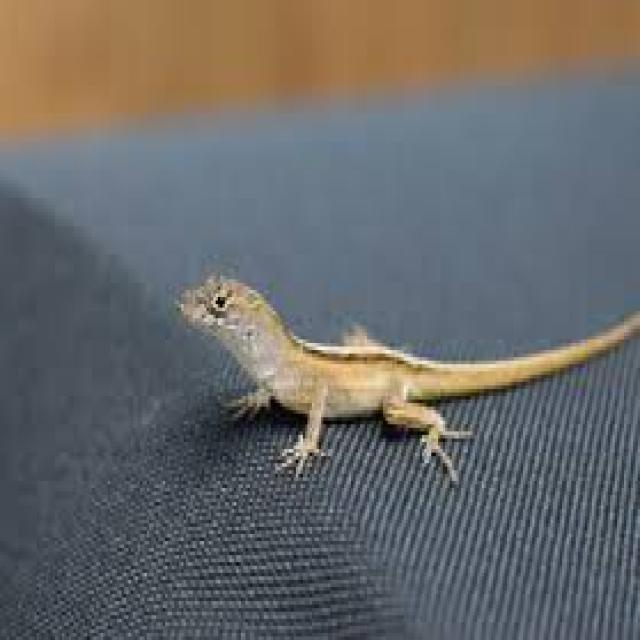Lizard: (176, 274, 640, 465)
